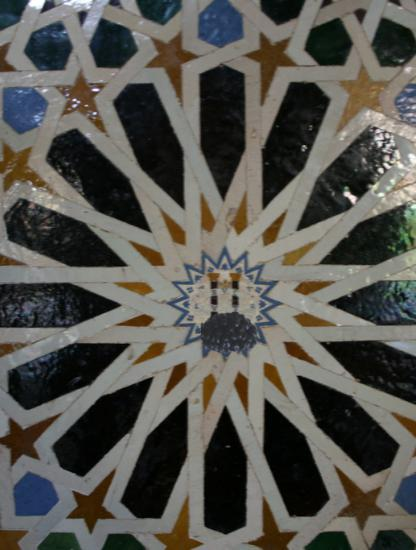Mulberry: (201, 304, 259, 362)
